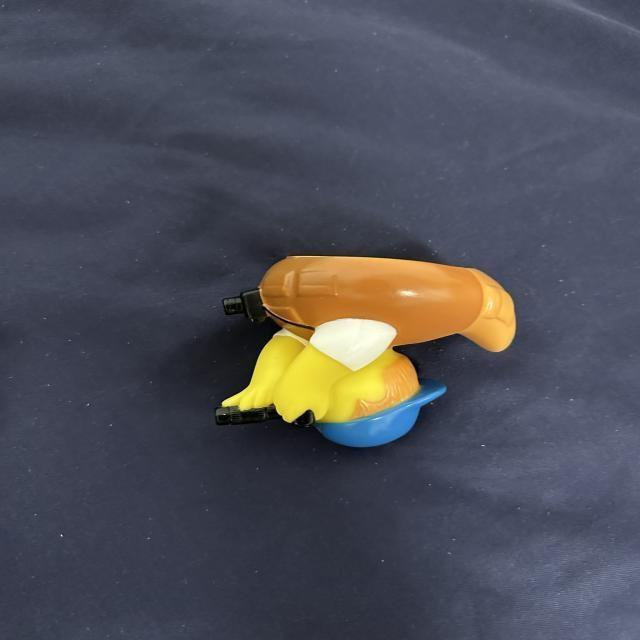rubber-duck: (214, 255, 514, 445)
